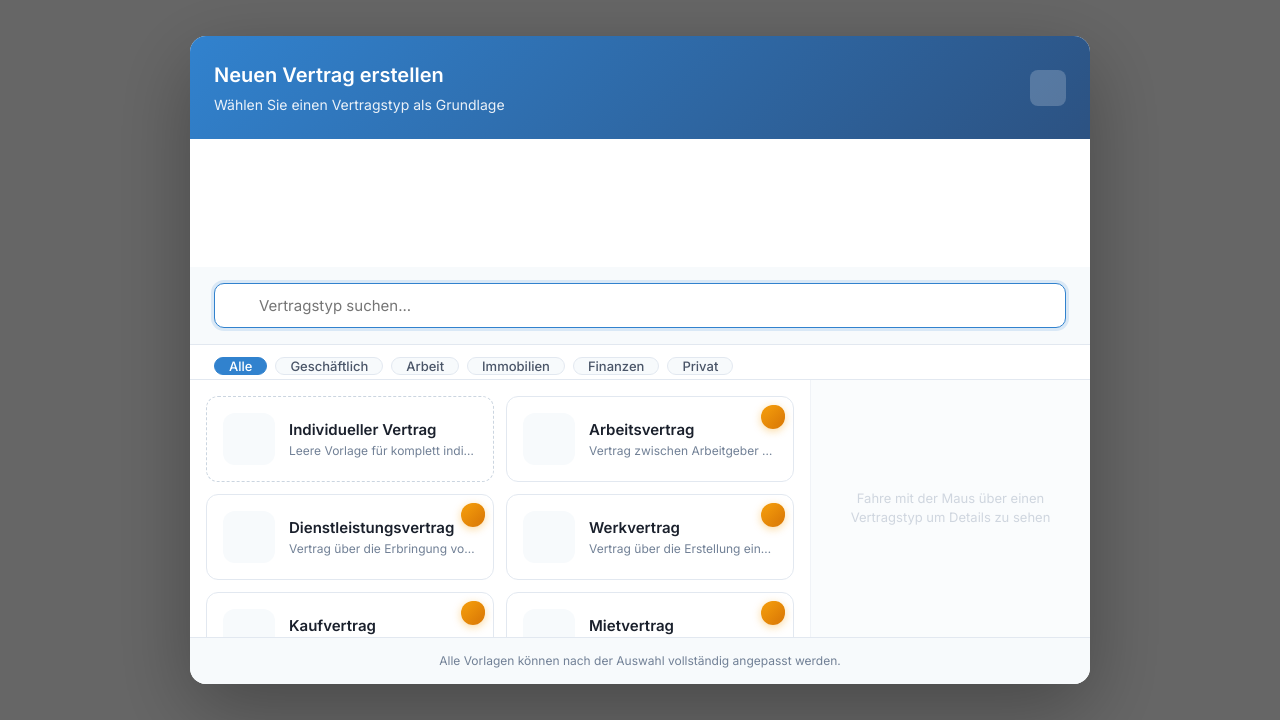
Test: ContractTypeSelector - Smoke Tests › Upgrade-Modal erscheint für Free-User bei Premium-Template
What coordinates should you click on to do the following:
click the button "Arbeitsvertrag Vertrag zwischen Arbeitgeber und Arbeitnehmer"
I would click on:
 (650, 439)
Its box is [506,396,794,482].
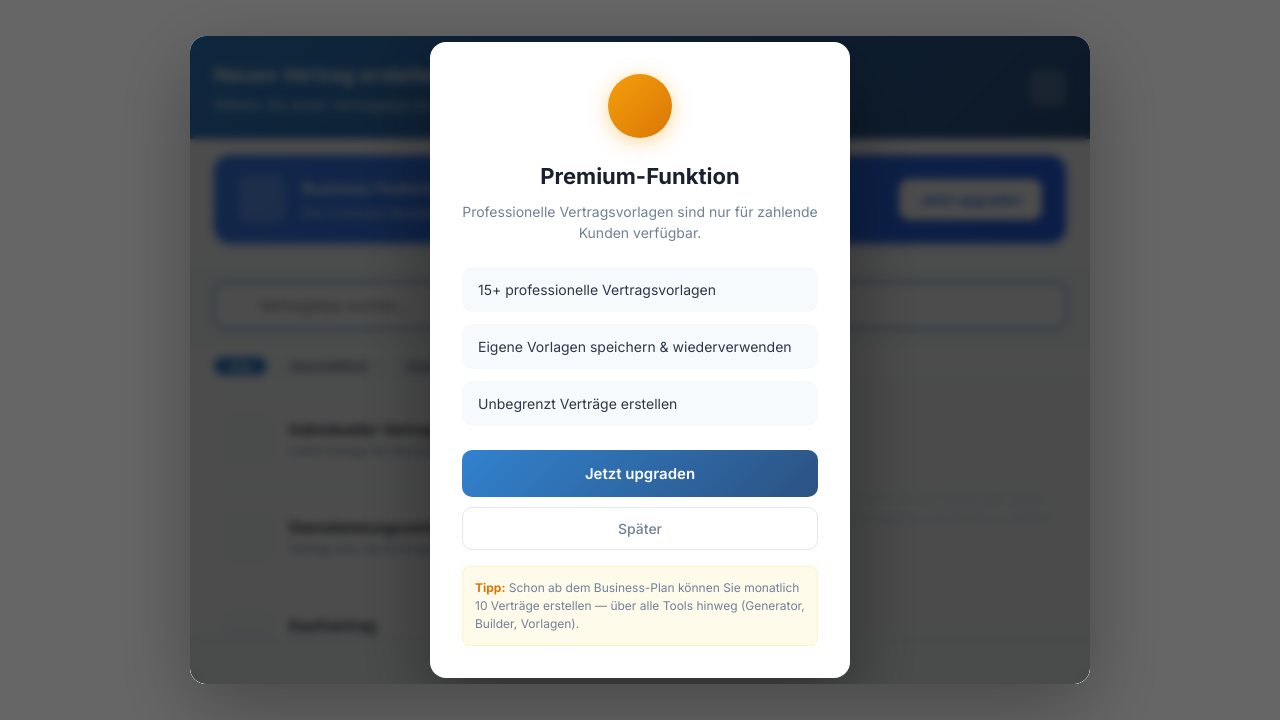
expect the heading "Premium-Funktion" is shown: met, box [540,163,740,189]
